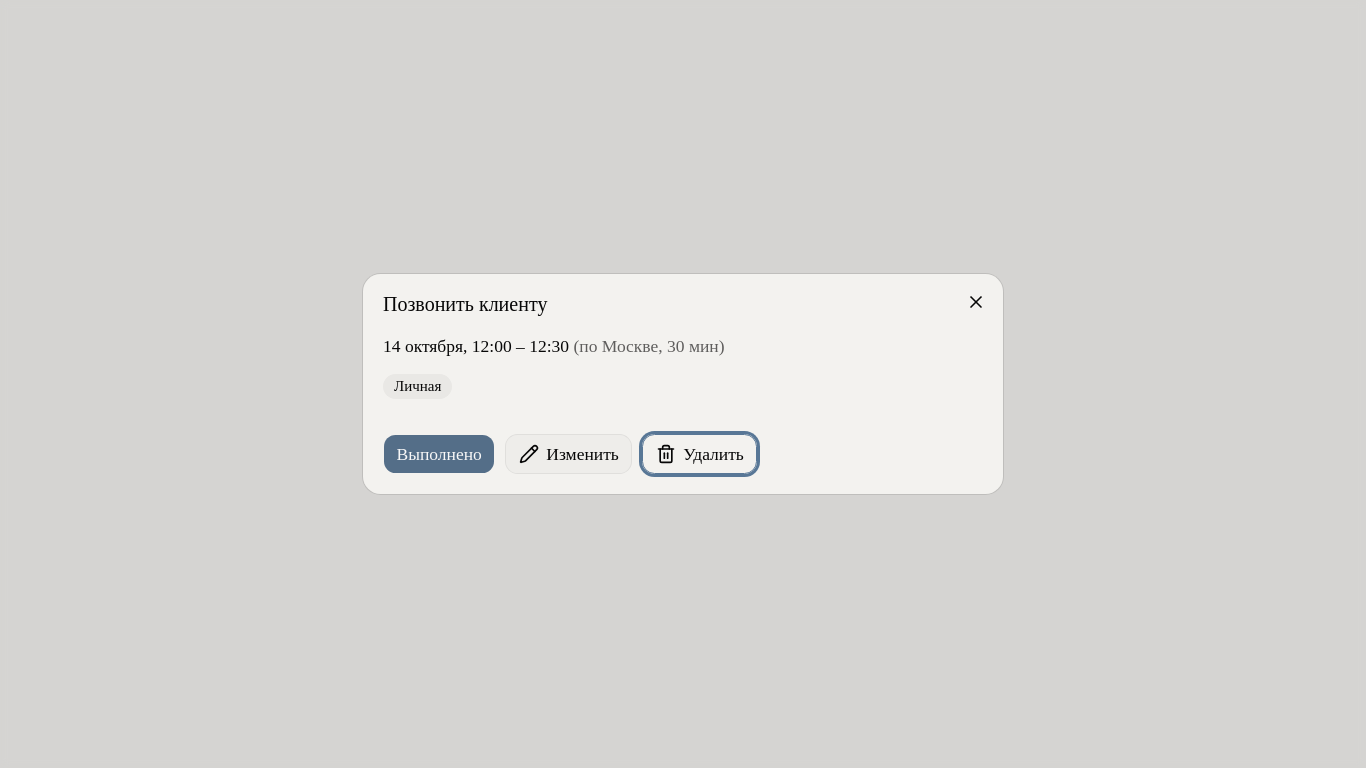
Scenario: задача в календаре: «Удалить» в карточке задачи › вопрос называет задачу; «Выполнено» и «Изменить» на время вопроса пропадают; фокус на «Не удалять»
Click the button with aria-label "Удалить задачу". click: (700, 454)
box: x1=642 y1=434 x2=757 y2=474
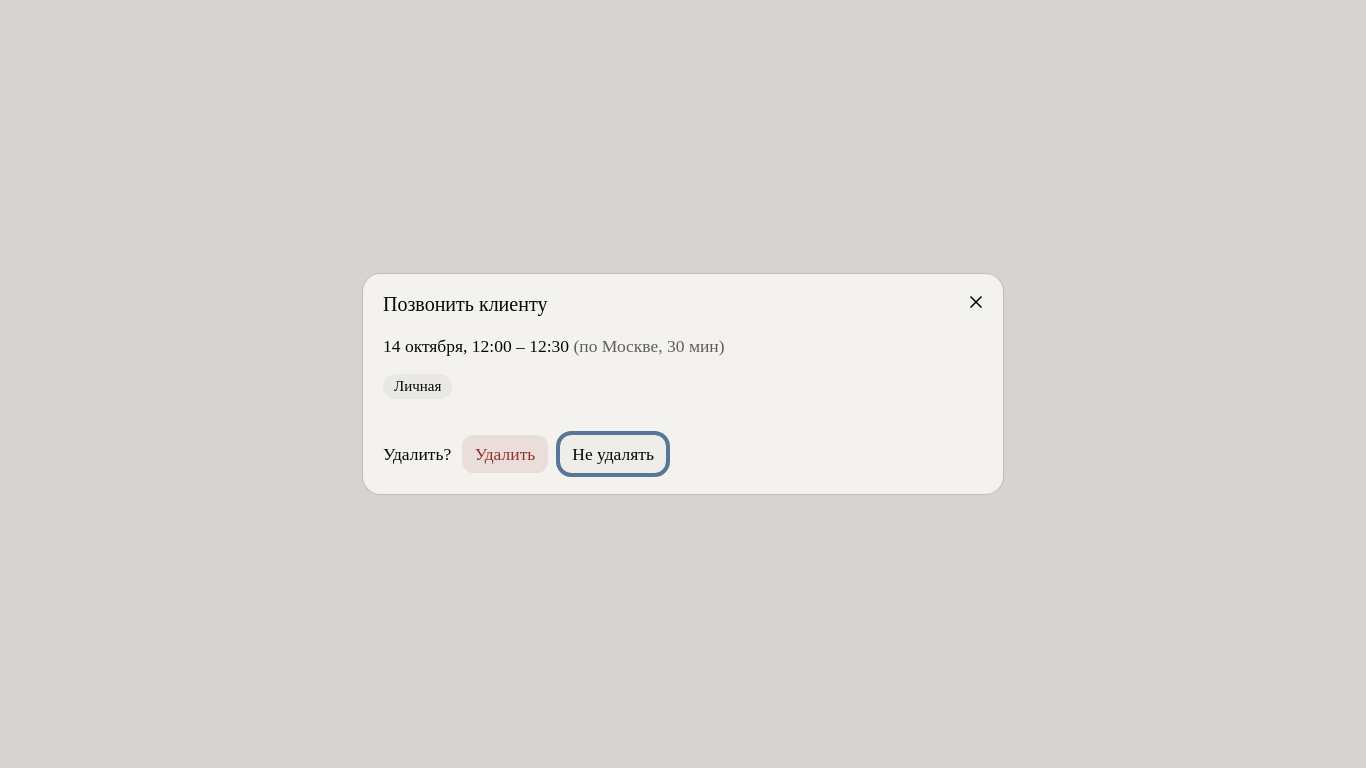
Expected: the button "Выполнено" is gone
Expected: the button "Изменить" is gone
